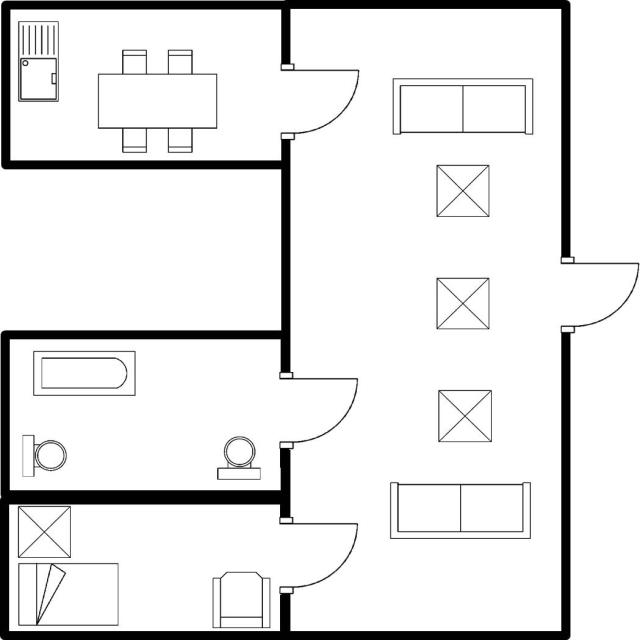armchair: (206, 566, 273, 630)
bed: (13, 559, 122, 629)
coffee_table: (430, 272, 493, 335), (432, 385, 497, 446), (431, 161, 495, 221), (13, 503, 76, 560)
dining_table: (90, 43, 222, 158)
large_sink: (214, 431, 266, 484), (16, 431, 70, 481)
large_sofa: (386, 73, 540, 140), (384, 478, 535, 544)
sink: (14, 16, 64, 105)
tub: (28, 344, 139, 402)
